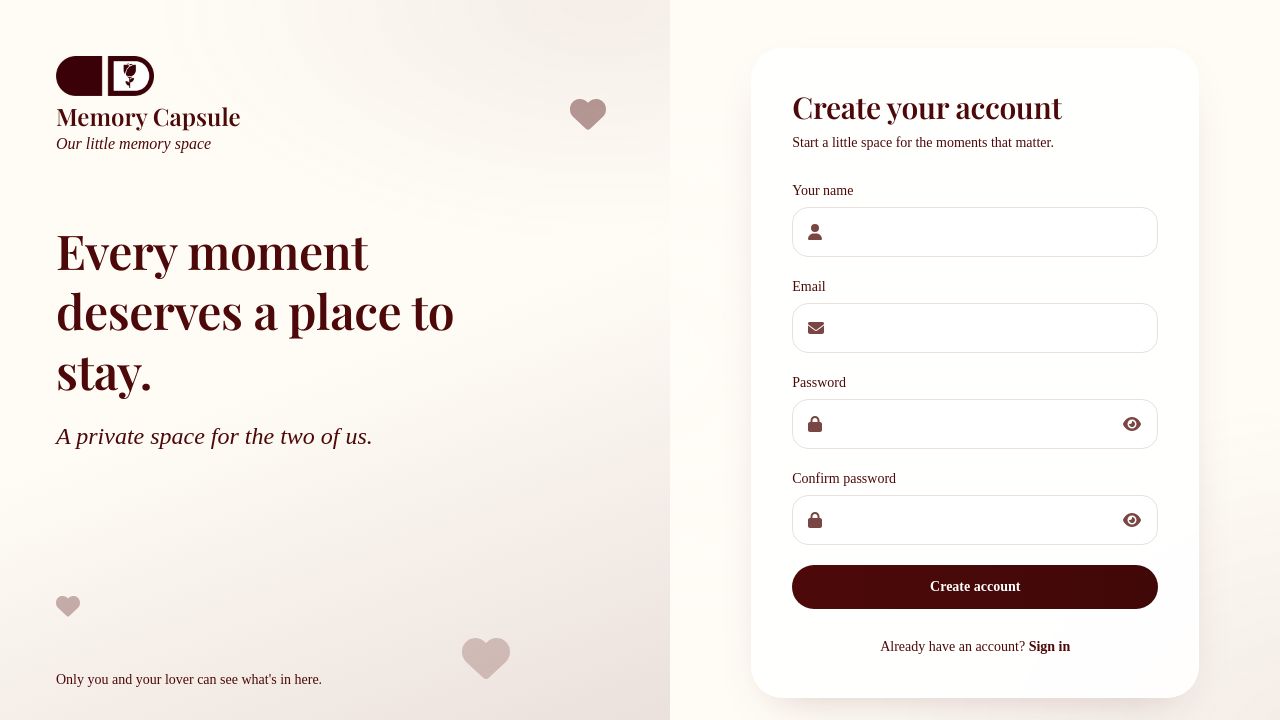
sign up › rejects mismatched passwords
Step 1. Type "Sam" into the field labelled "Your name" → (975, 232), box [792,207,1158,257]
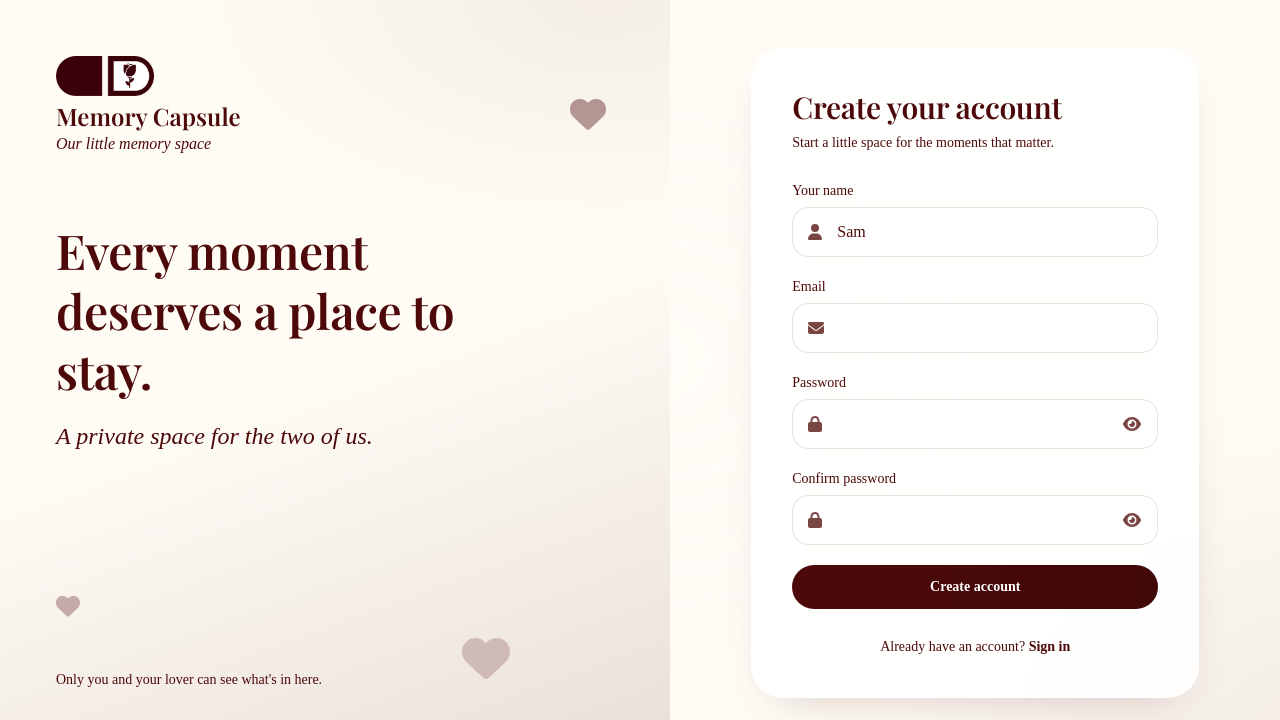
Step 2. Type "rectojustine84@gmail.com" into the field labelled "Email" → (975, 328), box [792,303,1158,353]
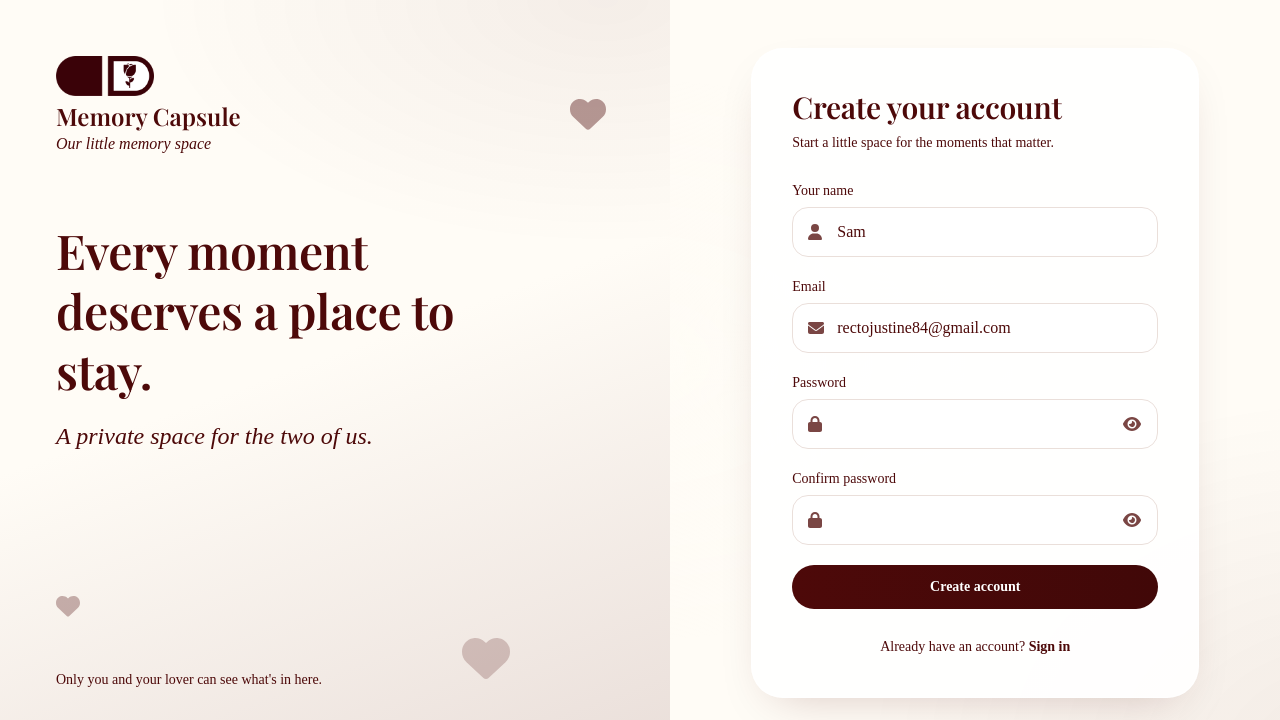
Step 3. Type "secret123" into the password field labelled "Password" → (975, 424), box [792,399,1158,449]
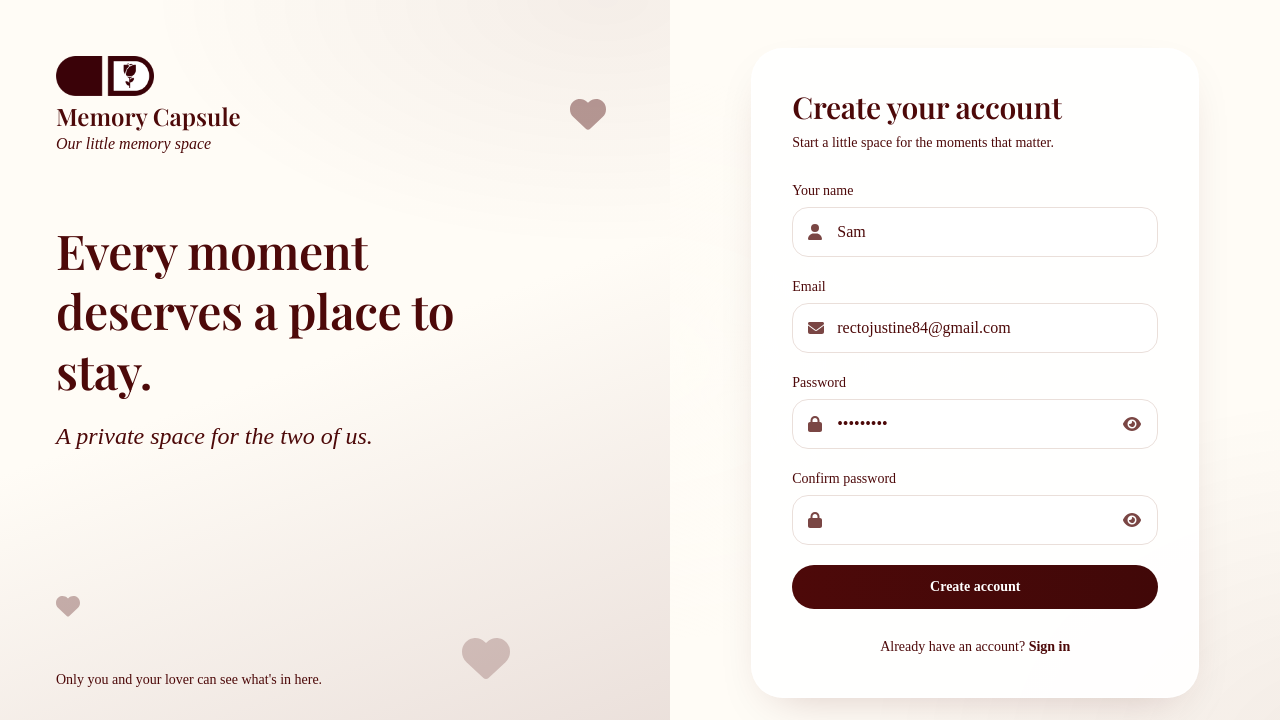
Step 4. Type "different1" into the password field labelled "Confirm password" → (975, 520), box [792,495,1158,545]
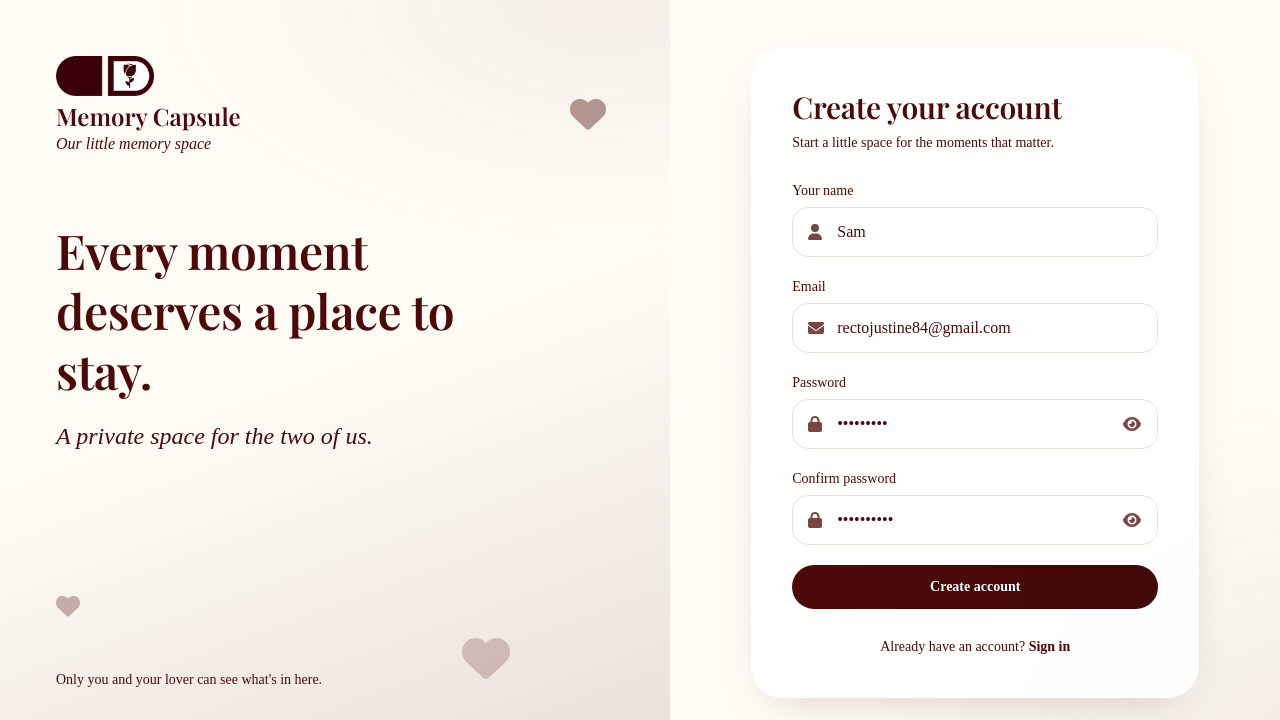
Step 5. Click the button "Create account" → (975, 587), box [792,565,1158,609]
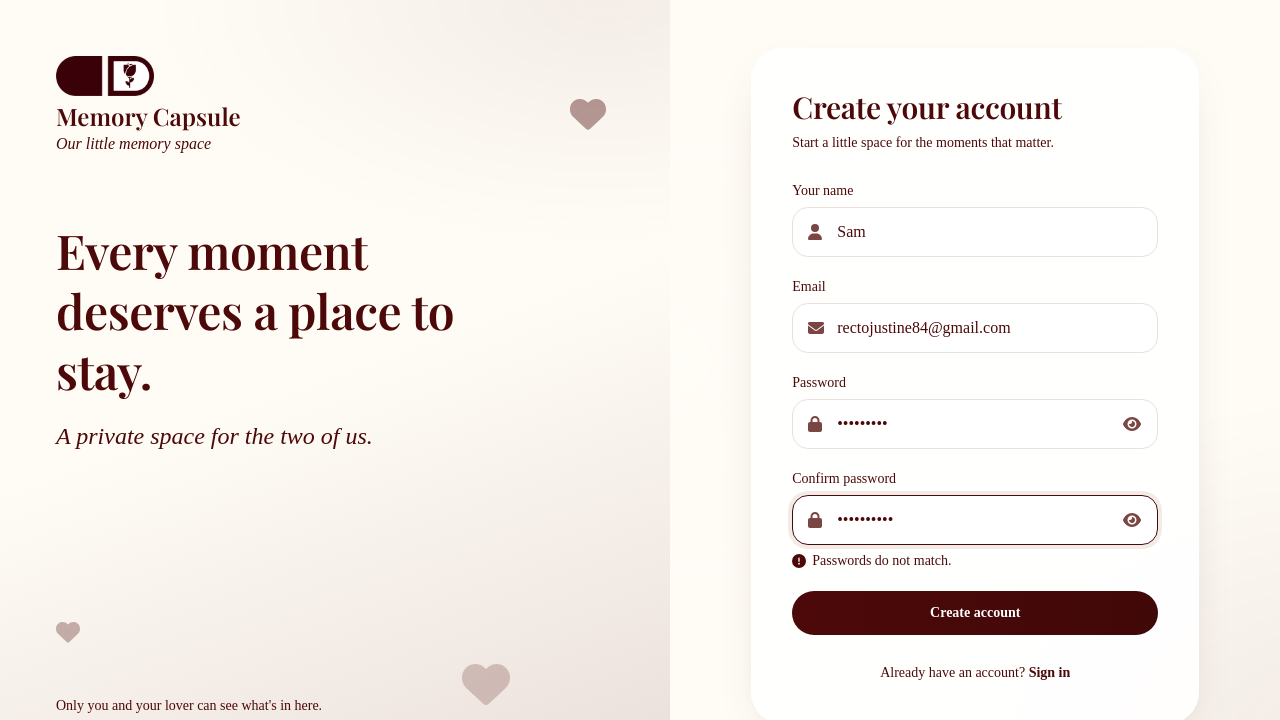
Result: the text "Passwords do not match." is shown at [792,553,951,568]
